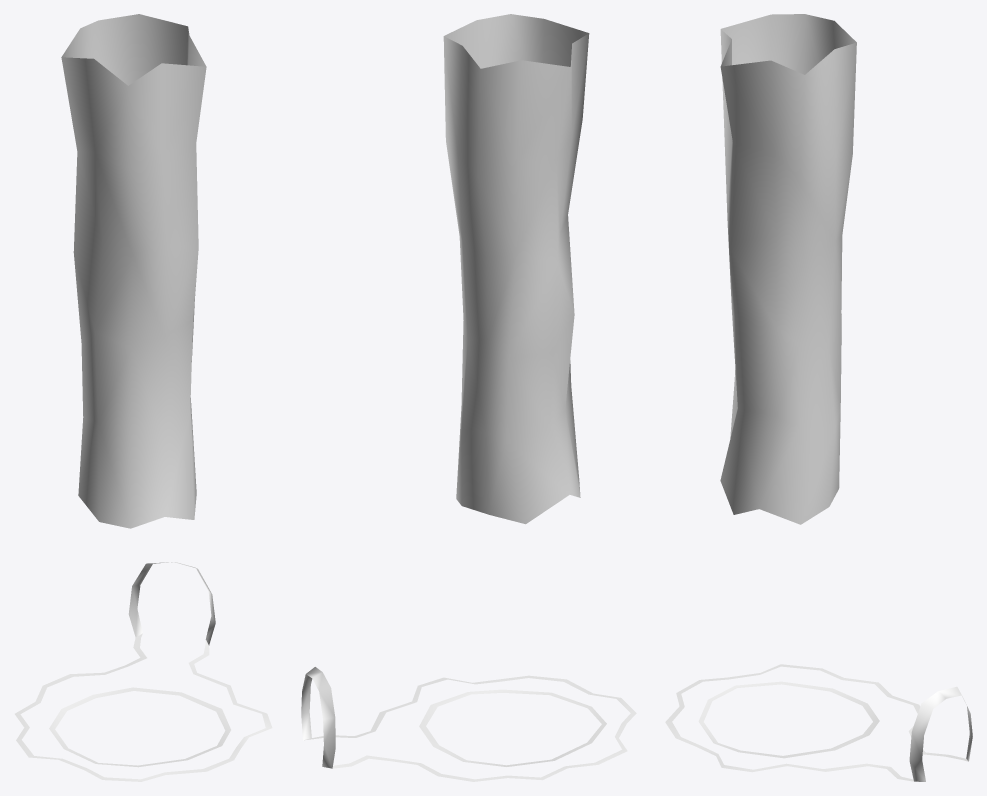
Rendered from WS2_common_island_V.obj.
The picture shows the model from 3 angles, left to right: view 1: azimuth 30°, elevation 25°; view 2: azimuth 150°, elevation 25°; view 3: azimuth 270°, elevation 25°; orthographic projection.
Parts seen in each view (by area): view 1: polygon0; view 2: polygon0; view 3: polygon0.
Part boxes in pixels (box(x1,y1,x2,y2)): polygon0: box(15, 14, 272, 781); polygon0: box(301, 14, 636, 781); polygon0: box(665, 14, 972, 781).
Bounding box in the file's own units: 975 × 2541 × 1035.
Materials: 1 (1 with a texture image).
